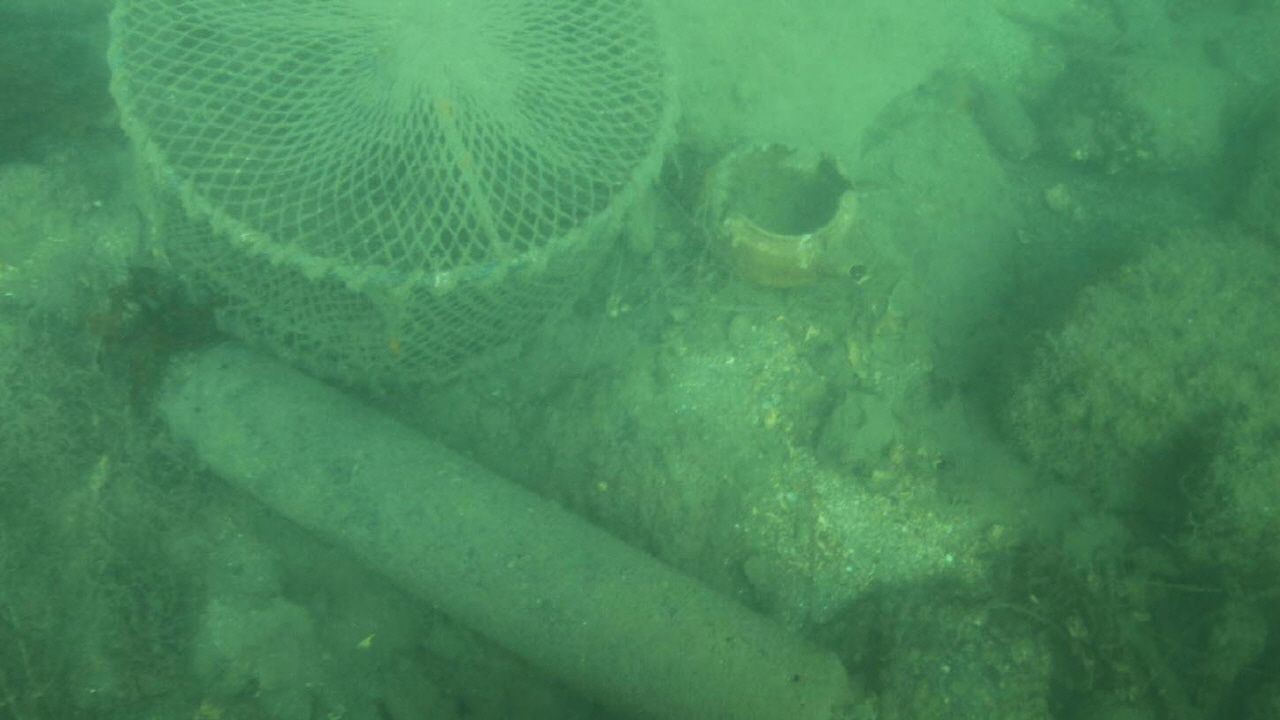circular fish trap: (106, 0, 678, 389)
eel fish trap: (154, 340, 851, 720)
